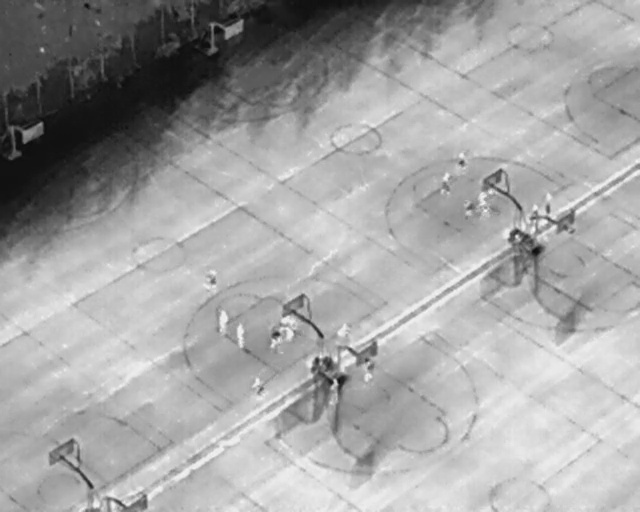Person: (270, 327, 282, 351), (218, 307, 227, 334), (442, 171, 451, 197), (251, 376, 263, 395), (209, 268, 218, 293), (236, 322, 244, 349), (457, 151, 467, 172), (281, 313, 290, 335), (463, 199, 473, 218), (365, 356, 372, 381), (545, 188, 552, 210), (532, 202, 540, 221), (480, 198, 488, 214)
